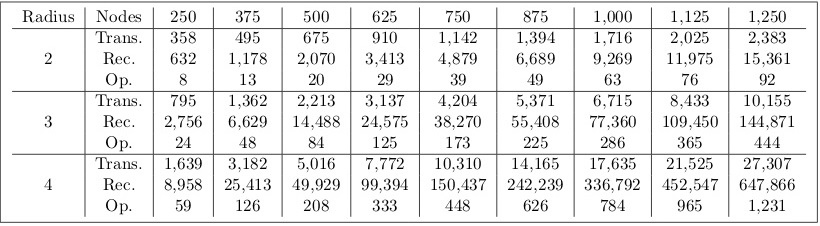column: (662, 3, 720, 226), (739, 2, 795, 226), (508, 1, 563, 226), (433, 2, 488, 226), (585, 4, 640, 225), (21, 2, 75, 226), (361, 3, 408, 226), (293, 4, 340, 226), (224, 4, 270, 226), (96, 4, 141, 226), (163, 5, 203, 226)
row: (1, 114, 820, 131), (1, 136, 820, 152), (2, 8, 820, 24), (1, 157, 820, 172), (1, 198, 820, 213), (1, 52, 820, 66), (1, 94, 820, 108), (1, 177, 820, 191), (2, 73, 820, 87), (1, 31, 820, 44)
